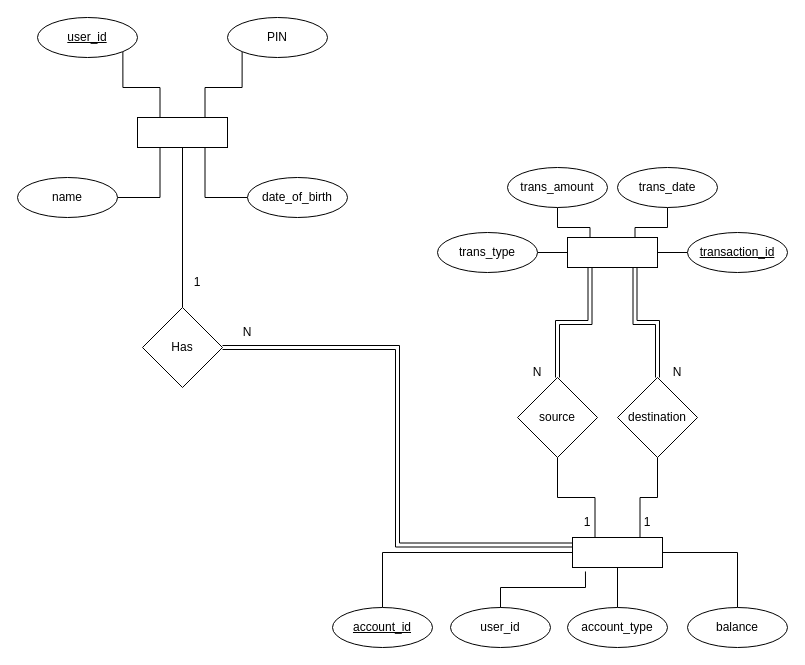
Image size: 805x665. Some labels were removed from this diagram. The shapes that lost their labels are listed below. From the top down, each one's centre as x and y in pixels, then its label:
[182,132]: bank_user
[612,252]: Transaction
[617,552]: account
